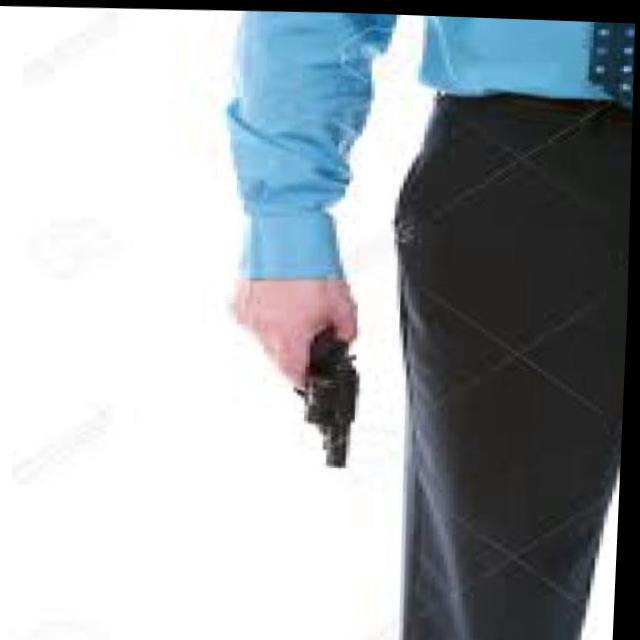weapon: (298, 319, 367, 464)
